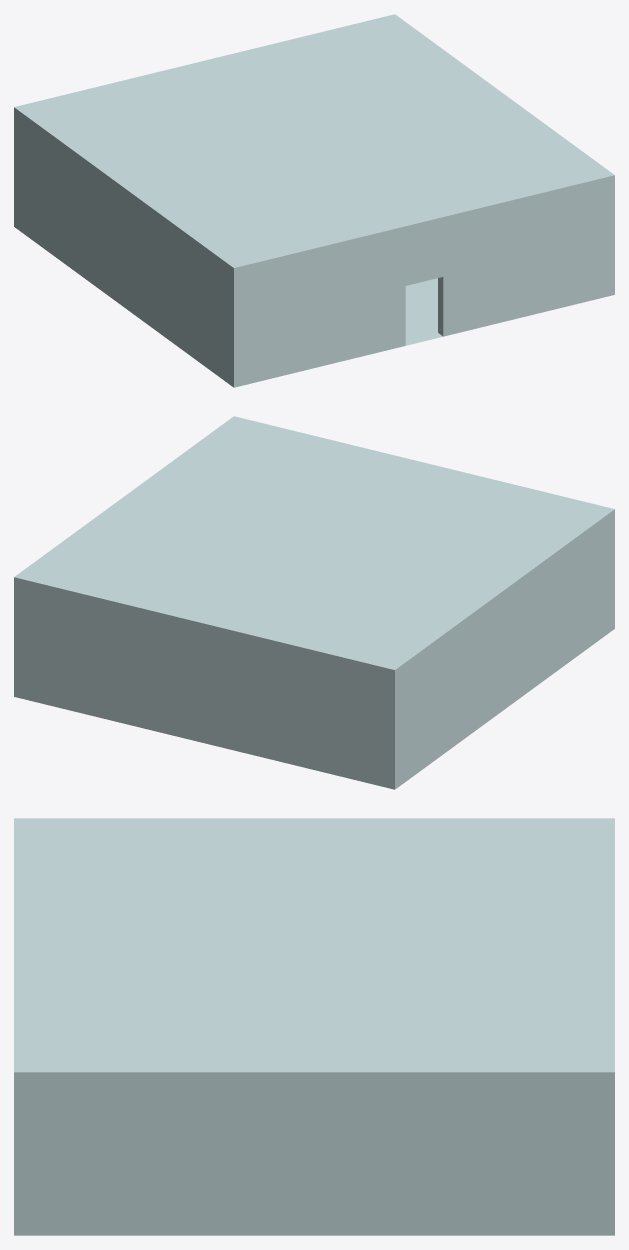
The model's file is MainHall.glb.
3 renders of one model, top to bottom at view 1: azimuth 30°, elevation 25°; view 2: azimuth 150°, elevation 25°; view 3: azimuth 270°, elevation 25°, orthographic. The views are drawn at different scales.
Visible parts, largest first — view 1: MainHall; view 2: MainHall; view 3: MainHall.
Part boxes in pixels (left/top/right/bottom): MainHall: left=14, top=14, right=614, bottom=387; MainHall: left=14, top=416, right=614, bottom=789; MainHall: left=14, top=818, right=614, bottom=1235.
Bounding box in the file's own units: 200 × 60 × 200.
